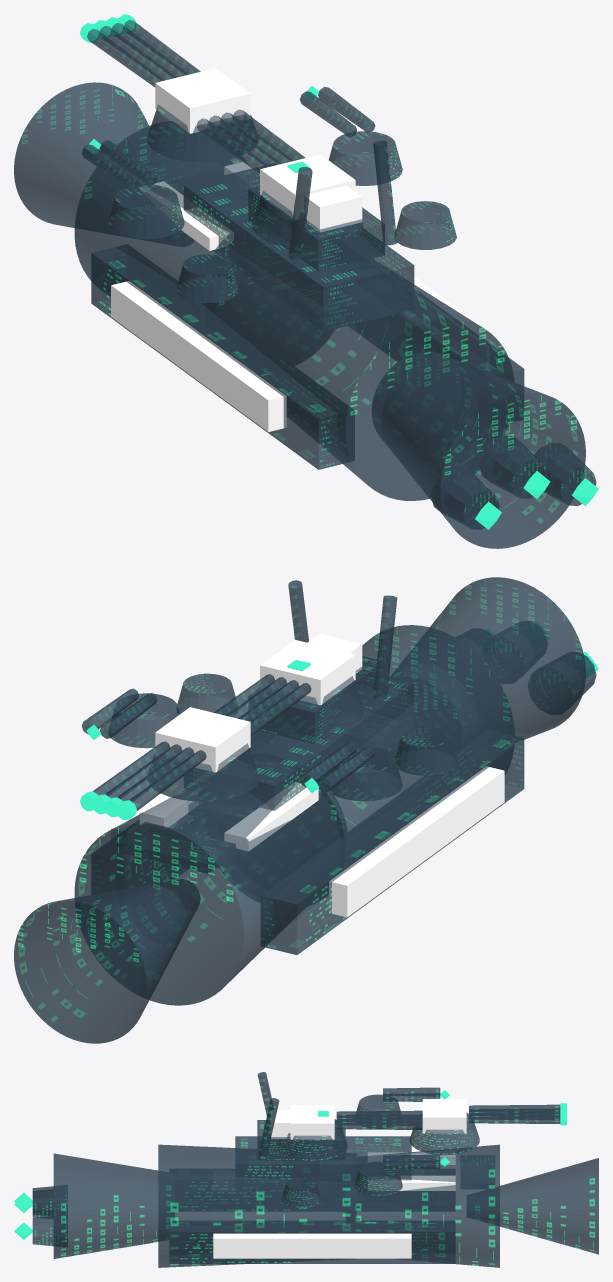
The model's file is cuirasse.glb.
The picture shows the model from 3 angles, top to bottom: view 1: azimuth 30°, elevation 25°; view 2: azimuth 150°, elevation 25°; view 3: azimuth 270°, elevation 25°; orthographic projection. The views are drawn at different scales.
Visible parts, largest first — view 1: guerrier; view 2: guerrier; view 3: guerrier.
Boxes of the visible parts, x1,y1,x2,y2 form: guerrier: (14, 14, 598, 548); guerrier: (14, 577, 598, 1043); guerrier: (14, 1072, 598, 1267).
Bounding box in the file's own units: 0.94 × 0.881 × 2.65.
